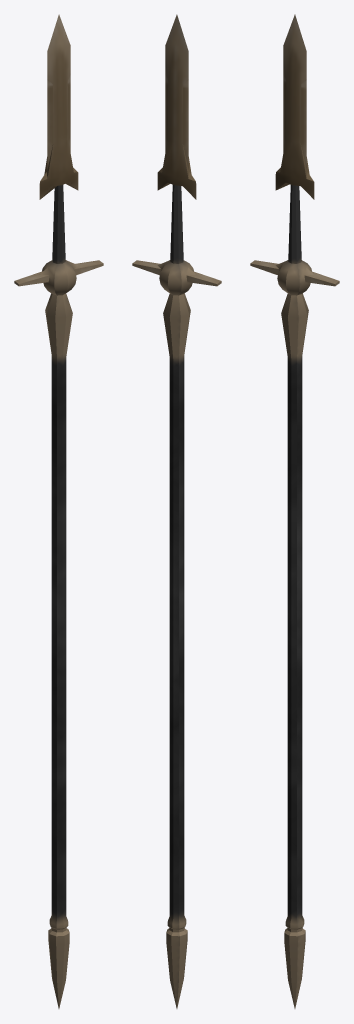
The model's file is spear.glb.
The picture shows the model from 3 angles, left to right: view 1: azimuth 30°, elevation 25°; view 2: azimuth 150°, elevation 25°; view 3: azimuth 330°, elevation 25°; orthographic projection.
Visible parts, largest first — view 1: pCube7; view 2: pCube7; view 3: pCube7.
Boxes of the visible parts, left/top/right/bottom form: pCube7: left=14, top=14, right=103, bottom=1008; pCube7: left=132, top=14, right=221, bottom=1008; pCube7: left=250, top=14, right=339, bottom=1008.
Size of the model in its own units: 0.2762 by 3.1 by 0.1034.
Materials: 1 (1 with a texture image).
